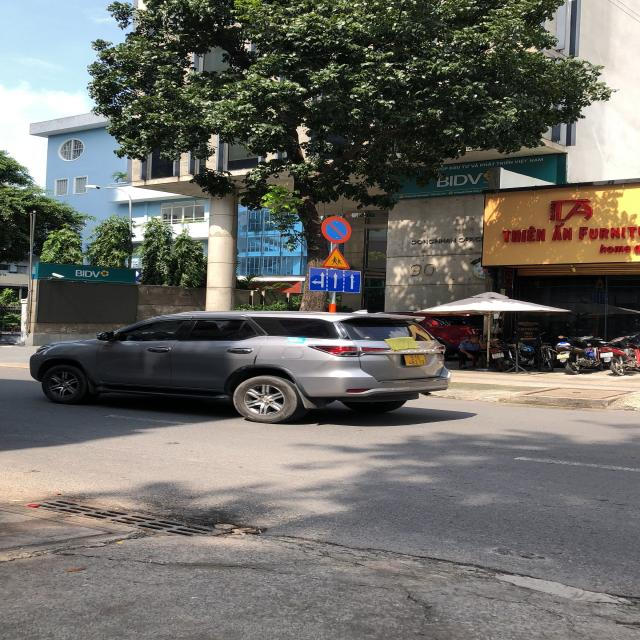Bien bao cam do xe: (319, 213, 355, 244)
Bien bao tre em: (320, 245, 359, 269)
